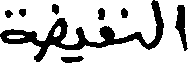ا: (174, 2, 186, 51)
ة: (0, 6, 29, 44)
ض: (45, 2, 65, 62)
ف: (97, 5, 114, 48)
ل: (149, 0, 162, 50)
ن: (120, 5, 142, 47)
ي: (63, 16, 84, 62)
